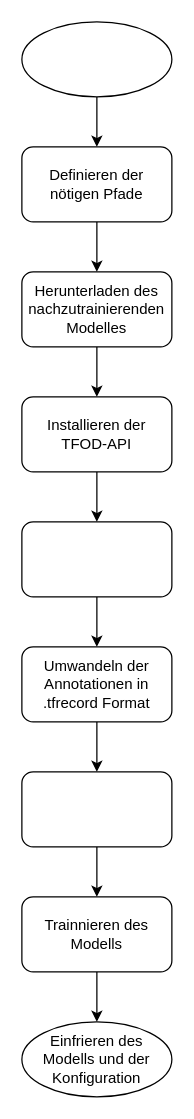
The diagram is 194 pixels wide and 1119 high, and some of its shapes have lost their labels. The box of each missing label's shape, as (x1, y1, x2, y2) in pixels:
Training der Modelle: (21, 21, 172, 97)
Updaten der Konfiguratinsdatei des Modells: (21, 771, 172, 847)
Verifizieren der API Installation: (21, 521, 172, 597)
